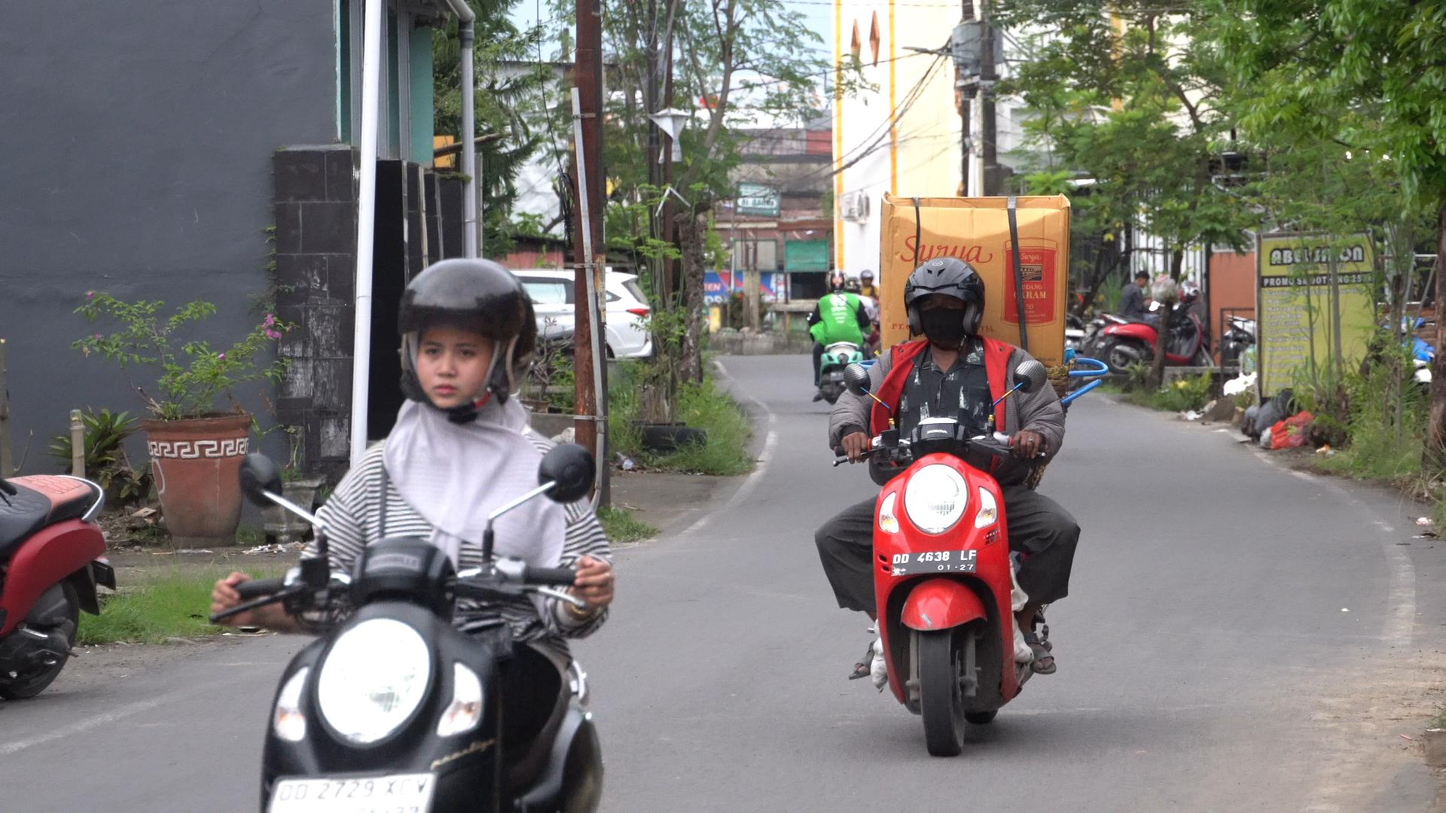number-plate: (890, 548, 978, 578)
